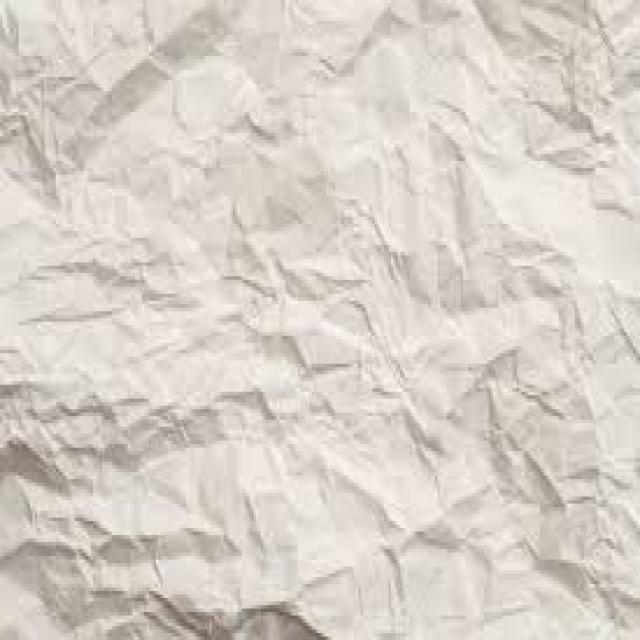paper: (0, 0, 638, 637)
